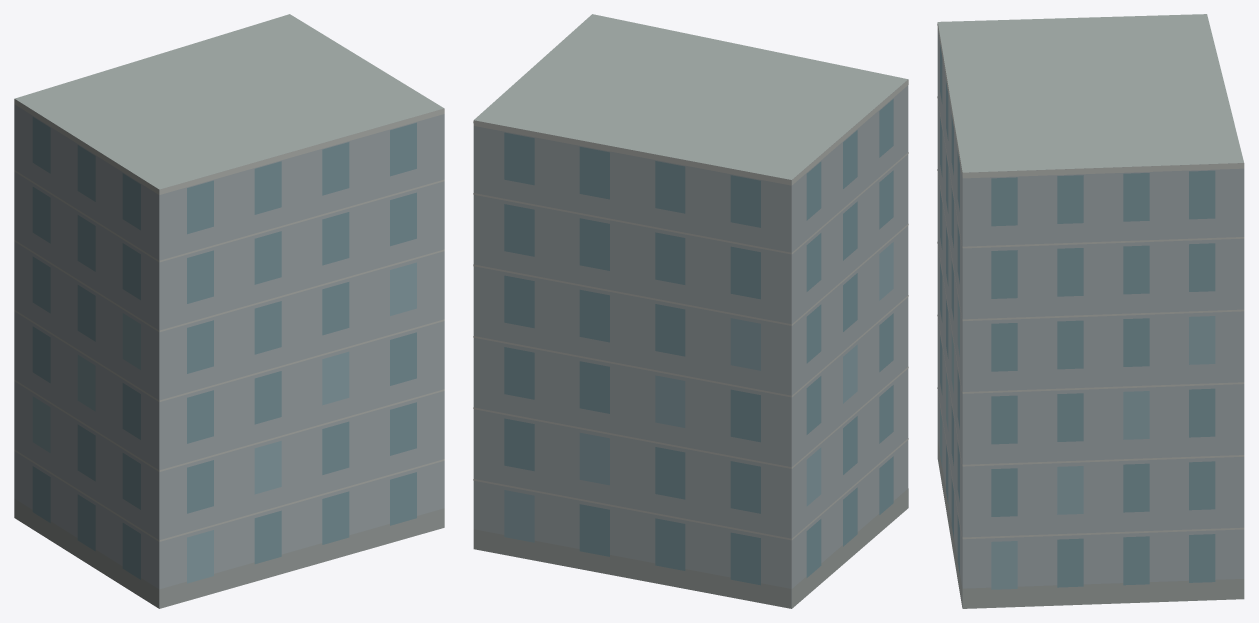
Rendered from survey-upis-32767319.glb.
The picture shows the model from 3 angles, left to right: view 1: azimuth 30°, elevation 25°; view 2: azimuth 150°, elevation 25°; view 3: azimuth 270°, elevation 25°; orthographic projection. The views are drawn at different scales.
Visible parts, largest first — view 1: survey-upis-32767319.tmp; view 2: survey-upis-32767319.tmp; view 3: survey-upis-32767319.tmp.
Boxes of the visible parts, x1,y1,x2,y2 form: survey-upis-32767319.tmp: (14, 14, 444, 608); survey-upis-32767319.tmp: (473, 14, 908, 608); survey-upis-32767319.tmp: (937, 14, 1244, 608).
Size of the model in its own units: 14.46 by 18.5 by 11.81.
